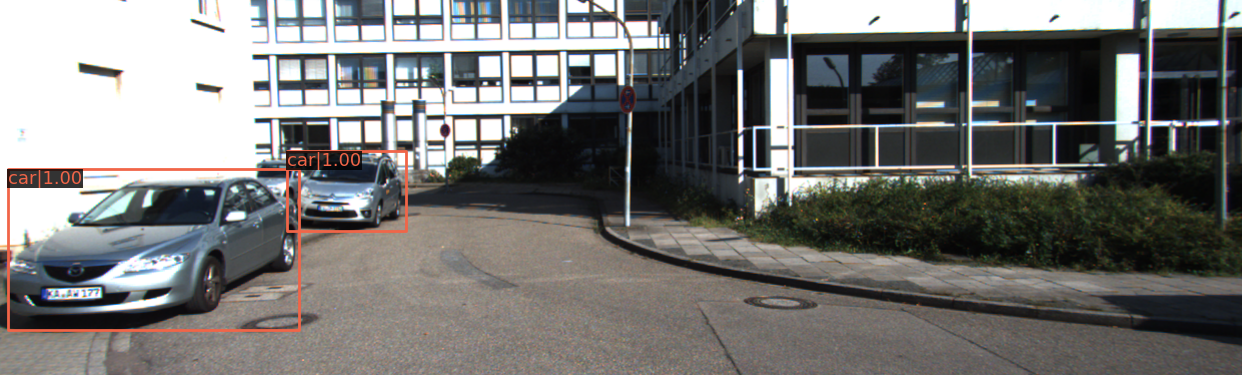car: (1, 174, 307, 327), (289, 154, 410, 229)
